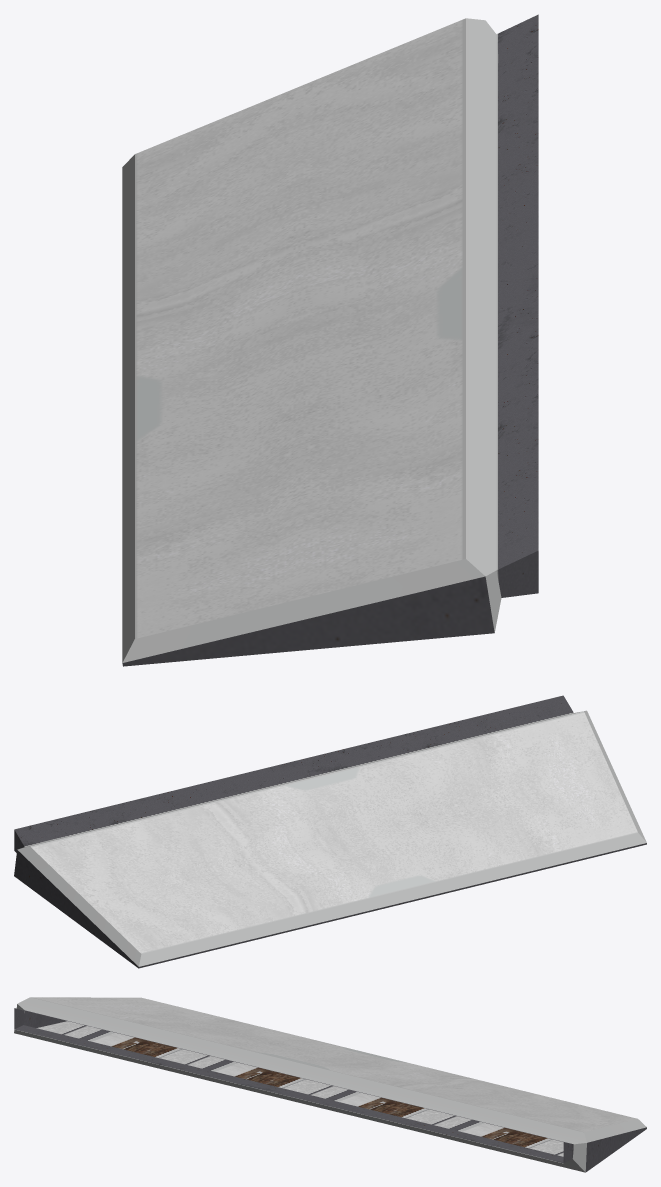
File: Museum_Hex_Floor_Ramp_Art.fbx
3 views of the same model, one above another, from view 1: azimuth 30°, elevation 25°; view 2: azimuth 150°, elevation 25°; view 3: azimuth 270°, elevation 25° (orthographic). The views are drawn at different scales.
Visible parts, largest first — view 1: Museum_Hex_Floor_Ramp; view 2: Museum_Hex_Floor_Ramp; view 3: Museum_Hex_Floor_Ramp.
Boxes of the visible parts, x1,y1,x2,y2 form: Museum_Hex_Floor_Ramp: (122, 14, 538, 666); Museum_Hex_Floor_Ramp: (14, 695, 646, 968); Museum_Hex_Floor_Ramp: (14, 997, 646, 1172).
Size of what is drawn, in the model's own units: 352 by 54.43 by 459.
1 material, 1 textured.
